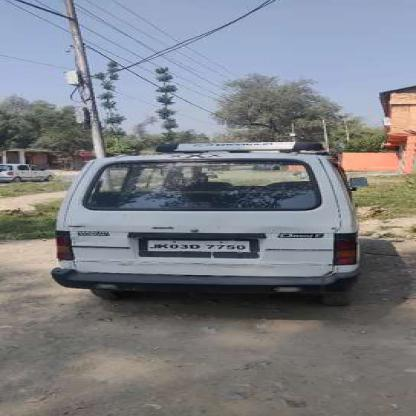license_plate: (142, 238, 250, 250)
